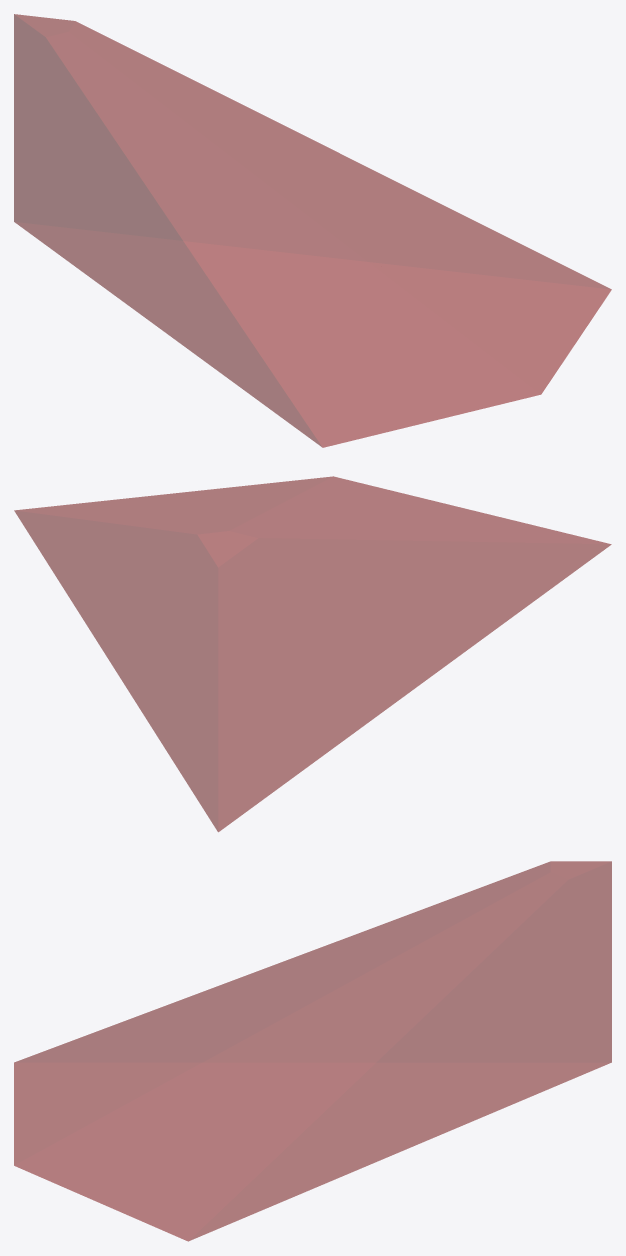
The model's file is SM_Bld_Steps_01_Corner_Outer_03_Collision.fbx.
3 renders of one model, top to bottom at view 1: azimuth 30°, elevation 25°; view 2: azimuth 150°, elevation 25°; view 3: azimuth 270°, elevation 25°, orthographic. The views are drawn at different scales.
Parts seen in each view (by area): view 1: SM_Bld_Steps_01_Corner_Outer_03_Collision; view 2: SM_Bld_Steps_01_Corner_Outer_03_Collision; view 3: SM_Bld_Steps_01_Corner_Outer_03_Collision.
Boxes of the visible parts, x1,y1,x2,y2 form: SM_Bld_Steps_01_Corner_Outer_03_Collision: (14, 14, 611, 447); SM_Bld_Steps_01_Corner_Outer_03_Collision: (14, 476, 611, 831); SM_Bld_Steps_01_Corner_Outer_03_Collision: (14, 861, 611, 1241).
Size of the model in its own units: 191 by 100 by 269.
